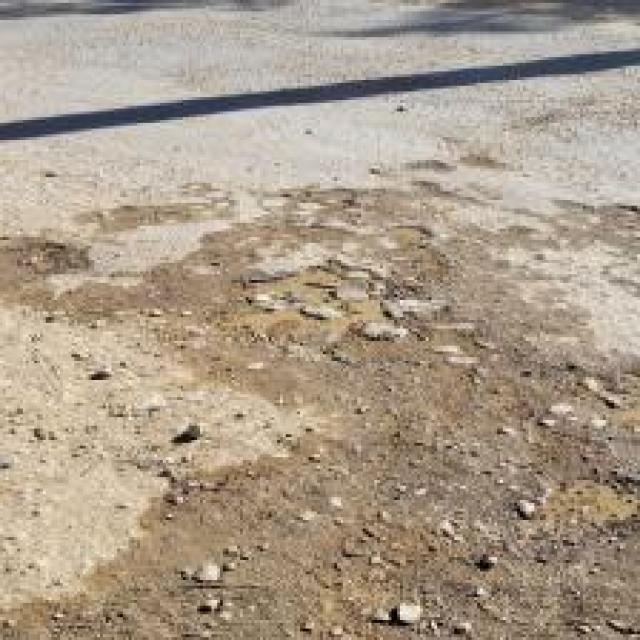BACHE: (225, 258, 434, 358)
GRIETA: (0, 48, 639, 141)
